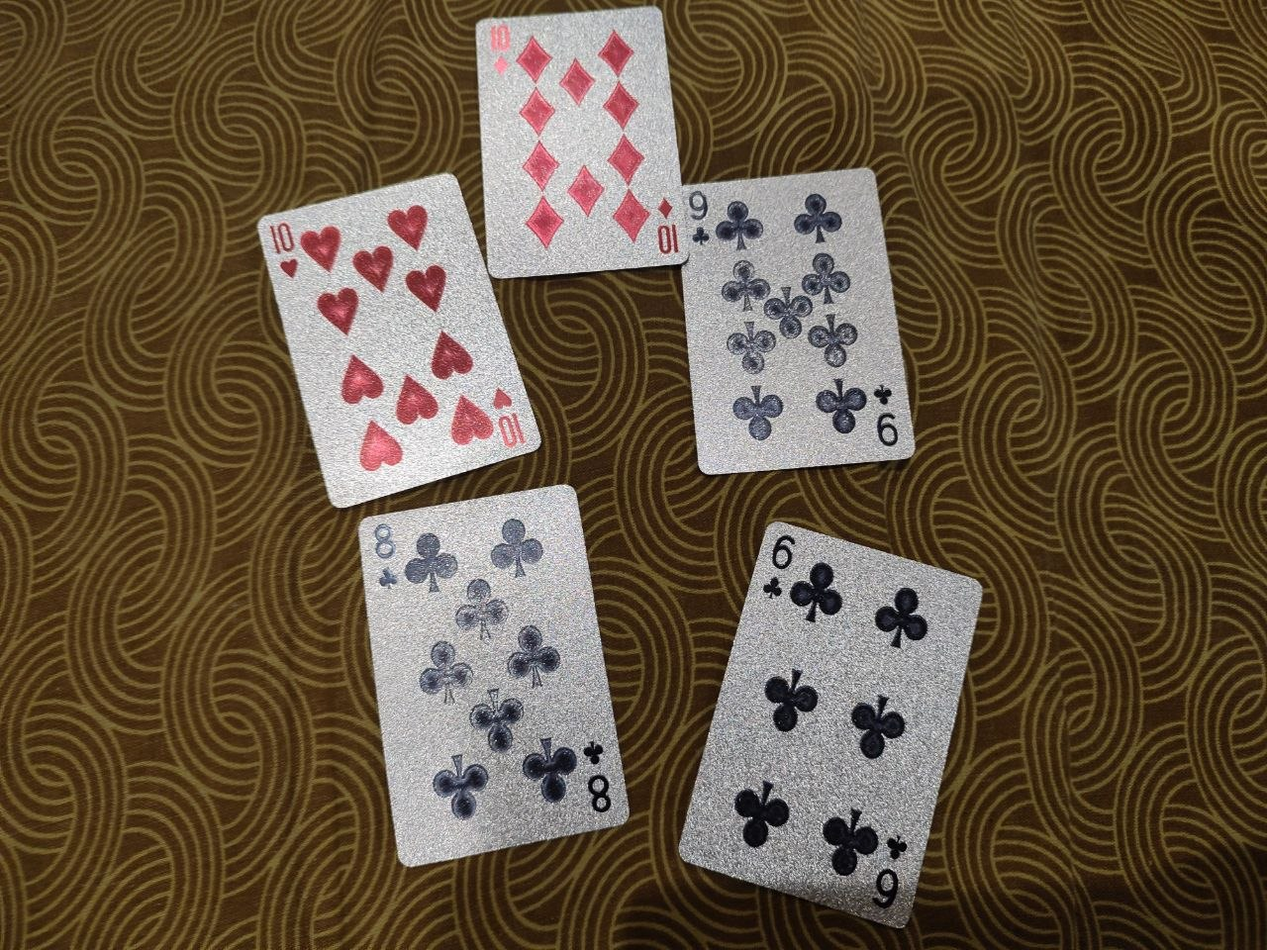10D: (474, 5, 691, 280)
10H: (257, 173, 543, 508)
6C: (676, 518, 984, 931)
8C: (356, 483, 633, 870)
9C: (680, 166, 919, 475)
